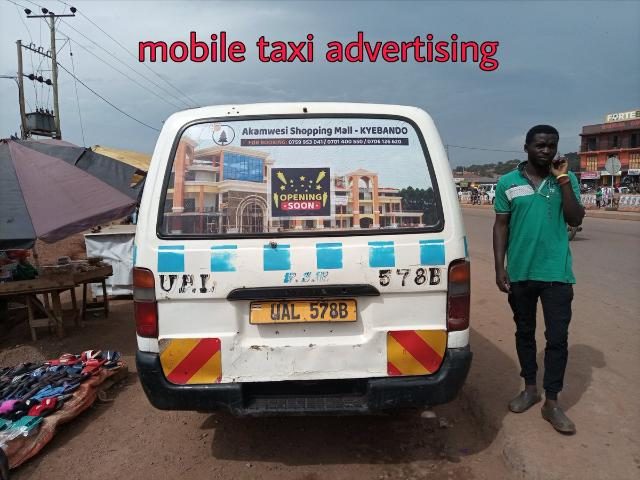van: (132, 100, 472, 414)
